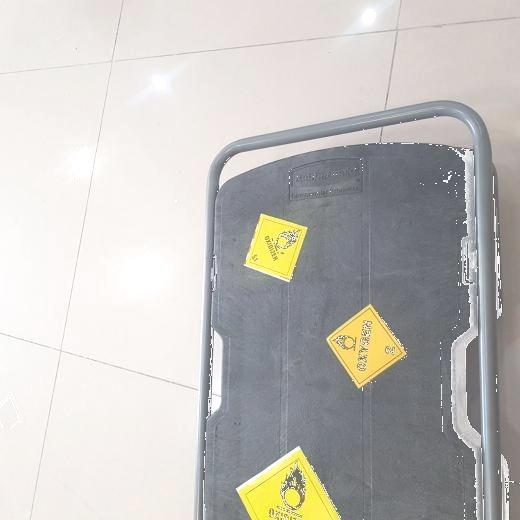oxidizer: (234, 444, 343, 520), (323, 304, 410, 387), (243, 209, 309, 285)
